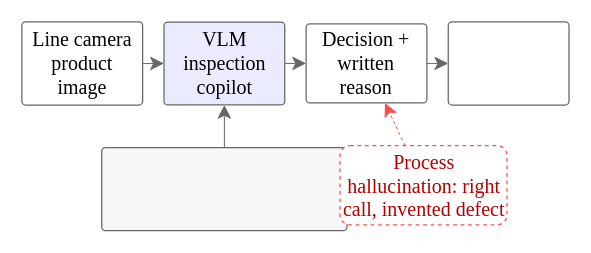
This 591x253 diagram has some shape labels left out. Here are the shapes that lost their labels. From the top down, the centre of each, then its label:
At point 508,63: "Supervisor action, audit log".
At point 223,188: "Training loop: reward design chosen with the framework (Fig. 10)".
